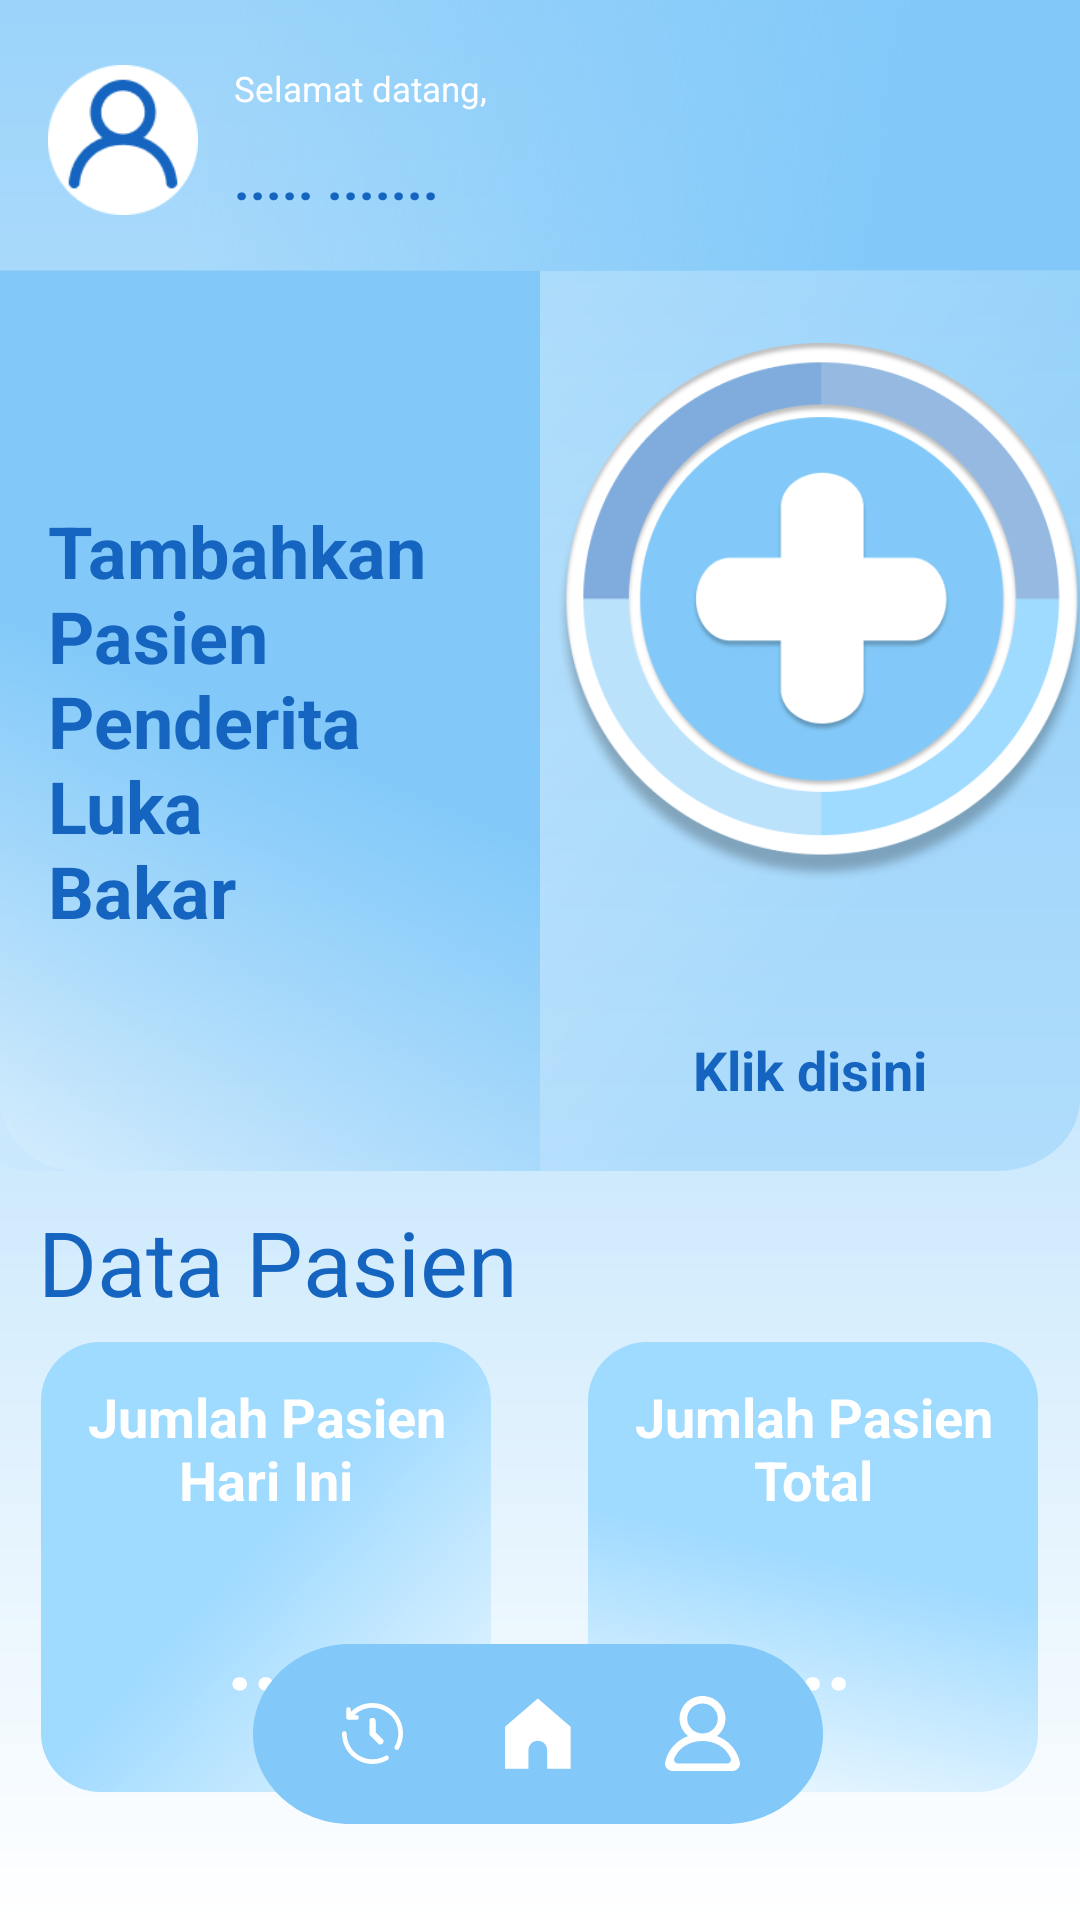

Screen size 1080 × 1920. Icon name, then its box in pixels as (x1, y1, x2, y2):
Beranda: (505, 1698, 571, 1769)
Profil: (665, 1696, 740, 1771)
Profile Icon: (48, 65, 198, 215)
Riwayat: (342, 1703, 403, 1764)
